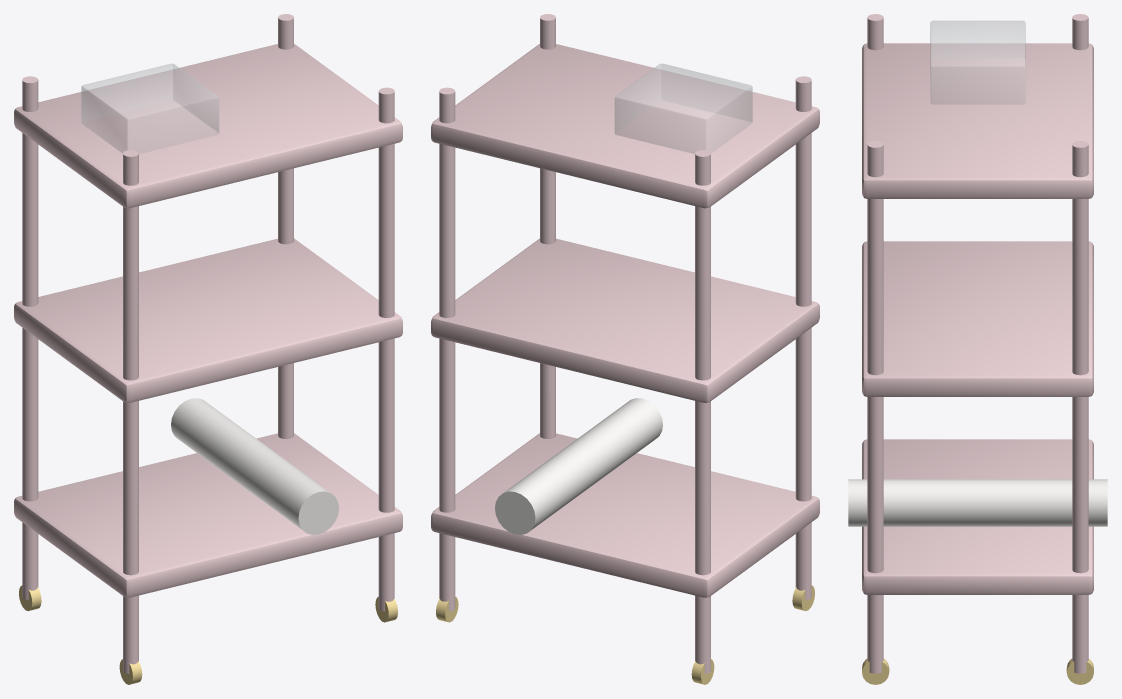
Rendered from rolling-treatment-cart.glb.
The picture shows the model from 3 angles, left to right: view 1: azimuth 30°, elevation 25°; view 2: azimuth 150°, elevation 25°; view 3: azimuth 270°, elevation 25°; orthographic projection.
Parts seen in each view (by area): view 1: cart_Tray_2, cart_Tray_1, cart_Tray_0, cart_AcrylicCottonBox, cart_Leg_0.22_-0.15, cart_Leg_-0.22_0.15, cart_Leg_-0.22_-0.15, cart_RolledTowel_0, cart_RolledTowel_2, cart_Leg_0.22_0.15, cart_RolledTowel_1; view 2: cart_Tray_2, cart_Tray_1, cart_Tray_0, cart_AcrylicCottonBox, cart_Leg_0.22_0.15, cart_Leg_-0.22_-0.15, cart_Leg_-0.22_0.15, cart_RolledTowel_2, cart_RolledTowel_0, cart_Leg_0.22_-0.15, cart_RolledTowel_1; view 3: cart_Tray_2, cart_Tray_1, cart_Tray_0, cart_AcrylicCottonBox, cart_Leg_0.22_0.15, cart_Leg_0.22_-0.15, cart_RolledTowel_0, cart_RolledTowel_1, cart_RolledTowel_2, cart_Leg_-0.22_0.15, cart_Leg_-0.22_-0.15, cart_Wheel_0.22_0.15 (+1 smaller).
Boxes of the visible parts, x1,y1,x2,y2 form: cart_Tray_2: [14, 44, 402, 208]; cart_Tray_1: [14, 238, 402, 402]; cart_Tray_0: [14, 433, 402, 597]; cart_AcrylicCottonBox: [81, 63, 219, 153]; cart_Leg_0.22_-0.15: [378, 87, 394, 611]; cart_Leg_-0.22_0.15: [22, 76, 38, 600]; cart_Leg_-0.22_-0.15: [123, 150, 138, 673]; cart_RolledTowel_0: [224, 437, 338, 534]; cart_RolledTowel_2: [171, 398, 267, 489]; cart_Leg_0.22_0.15: [278, 14, 293, 438]; cart_RolledTowel_1: [197, 417, 296, 505]; cart_Tray_2: [431, 44, 819, 208]; cart_Tray_1: [431, 238, 819, 402]; cart_Tray_0: [431, 433, 819, 597]; cart_AcrylicCottonBox: [614, 63, 752, 153]; cart_Leg_0.22_0.15: [439, 87, 455, 611]; cart_Leg_-0.22_-0.15: [795, 76, 811, 600]; cart_Leg_-0.22_0.15: [695, 150, 710, 673]; cart_RolledTowel_2: [495, 437, 609, 534]; cart_RolledTowel_0: [564, 398, 662, 490]; cart_Leg_0.22_-0.15: [540, 14, 555, 438]; cart_RolledTowel_1: [543, 417, 635, 503]; cart_Tray_2: [862, 43, 1093, 198]; cart_Tray_1: [862, 241, 1093, 396]; cart_Tray_0: [862, 439, 1093, 594]; cart_AcrylicCottonBox: [930, 20, 1025, 104]; cart_Leg_0.22_0.15: [1072, 141, 1088, 673]; cart_Leg_0.22_-0.15: [867, 141, 883, 673]; cart_RolledTowel_0: [848, 479, 998, 526]; cart_RolledTowel_1: [903, 479, 1052, 526]; cart_RolledTowel_2: [957, 479, 1107, 526]; cart_Leg_-0.22_0.15: [1072, 14, 1088, 50]; cart_Leg_-0.22_-0.15: [867, 14, 883, 50]; cart_Wheel_0.22_0.15: [1066, 658, 1093, 684].
Bounding box in the file's own units: 0.48 × 0.885 × 0.38.
